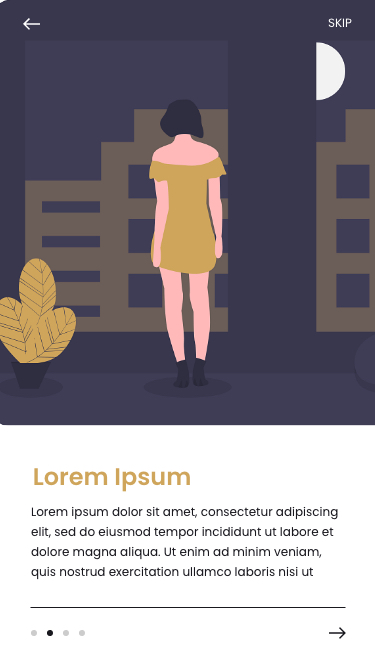Icon: (23, 18, 42, 32), (329, 626, 347, 640)
Image: (1, 1, 375, 426)
PageIndicator: (31, 629, 87, 637)
Text: (31, 506, 339, 580), (34, 467, 191, 493), (328, 18, 353, 29)
